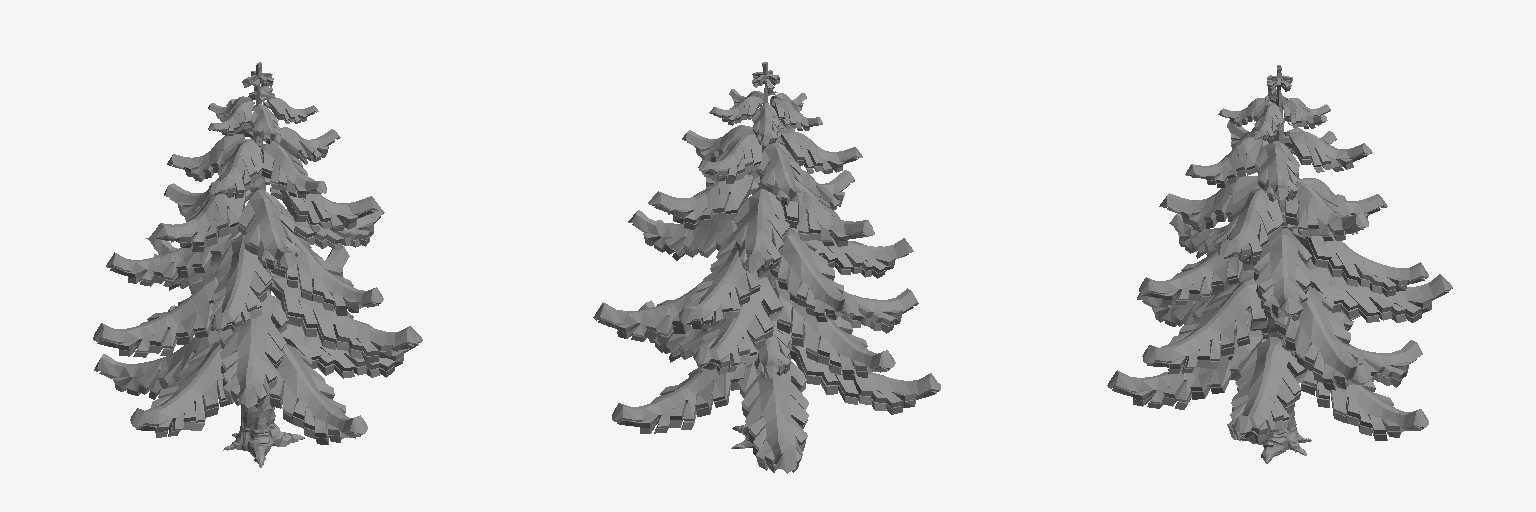
Rendered from f_tree.obj.
3 views of the same model, side by side, from view 1: azimuth 30°, elevation 25°; view 2: azimuth 150°, elevation 25°; view 3: azimuth 270°, elevation 25° (orthographic).
Visible parts, largest first — view 1: the_square_brunch_06, the_square_brunch_03, the_square_brunch_02, the_square_brunch_07, the_square_brunch_10, the_square_brunch_15, the_square_brunch_11, the_short_square_brunch_01, the_square_brunch_01, the_square_brunch_14, the_short_square_brunch_02, trunk (+12 smaller); view 2: the_square_brunch_01, the_square_brunch_10, the_square_brunch_05, the_square_brunch_09, the_square_brunch_14, the_square_brunch_02, the_square_brunch_13, the_short_square_brunch_03, the_short_square_brunch_04, the_square_brunch_12, the_square_brunch_08, the_short_square_brunch_02 (+12 smaller); view 3: the_square_brunch_07, the_square_brunch_04, the_square_brunch_08, the_square_brunch_03, the_square_brunch_09, the_square_brunch_05, the_square_brunch_12, the_square_brunch_13, the_square_brunch_11, the_short_square_brunch_05, the_short_square_brunch_04, the_short_square_brunch_01 (+11 smaller).
Boxes of the visible parts, x1,y1,x2,y2 form: the_square_brunch_06: [220, 290, 288, 408]; the_square_brunch_03: [269, 343, 367, 444]; the_square_brunch_02: [130, 340, 231, 437]; the_square_brunch_07: [269, 274, 418, 362]; the_square_brunch_10: [93, 277, 218, 357]; the_square_brunch_15: [209, 234, 272, 332]; the_square_brunch_11: [273, 235, 383, 315]; the_short_square_brunch_01: [237, 190, 300, 270]; the_square_brunch_01: [94, 330, 222, 399]; the_square_brunch_14: [106, 231, 241, 286]; the_short_square_brunch_02: [153, 190, 251, 251]; trunk: [223, 83, 304, 467]; the_square_brunch_01: [738, 361, 808, 473]; the_square_brunch_10: [774, 280, 895, 379]; the_square_brunch_05: [612, 364, 749, 433]; the_square_brunch_09: [694, 277, 782, 374]; the_square_brunch_14: [770, 229, 858, 321]; the_square_brunch_02: [790, 334, 940, 414]; the_square_brunch_13: [679, 239, 771, 329]; the_short_square_brunch_03: [734, 189, 789, 273]; the_short_square_brunch_04: [648, 174, 758, 229]; the_square_brunch_12: [628, 210, 737, 260]; the_square_brunch_08: [593, 282, 701, 343]; the_short_square_brunch_02: [781, 187, 874, 246]; the_square_brunch_07: [1142, 277, 1267, 373]; the_square_brunch_04: [1227, 336, 1306, 441]; the_square_brunch_08: [1274, 286, 1371, 390]; the_square_brunch_03: [1107, 330, 1266, 409]; the_square_brunch_09: [1308, 264, 1452, 322]; the_square_brunch_05: [1301, 370, 1428, 440]; the_square_brunch_12: [1253, 229, 1311, 320]; the_square_brunch_13: [1293, 225, 1428, 296]; the_square_brunch_11: [1139, 238, 1253, 304]; the_short_square_brunch_05: [1217, 187, 1283, 262]; the_short_square_brunch_04: [1285, 182, 1368, 241]; the_short_square_brunch_01: [1159, 176, 1259, 231].
Bounding box in the file's own units: 434 × 537 × 438.